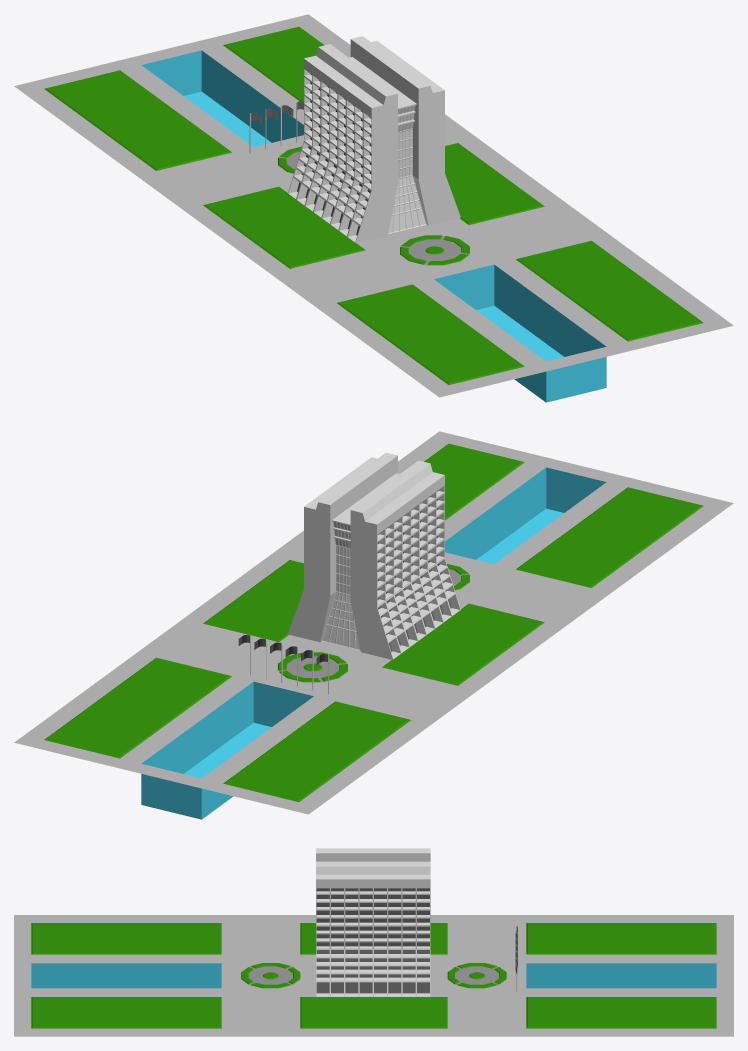
The model's file is _ermiLab.fbx.
The picture shows the model from 3 angles, top to bottom: view 1: azimuth 30°, elevation 25°; view 2: azimuth 150°, elevation 25°; view 3: azimuth 270°, elevation 25°; orthographic projection. The views are drawn at different scales.
Visible parts, largest first — view 1: Cylinder, Cube.009; view 2: Cylinder, Cube.009; view 3: Cylinder, Cube.009.
Part boxes in pixels (x1=…): Cylinder: x1=14, y1=14, x2=733, y2=402; Cube.009: x1=288, y1=36, x2=460, y2=243; Cylinder: x1=14, y1=431, x2=733, y2=819; Cube.009: x1=288, y1=452, x2=460, y2=659; Cylinder: x1=14, y1=915, x2=733, y2=1036; Cube.009: x1=316, y1=848, x2=430, y2=996.
Size of the model in its own units: 3981 by 9959 by 2338.
